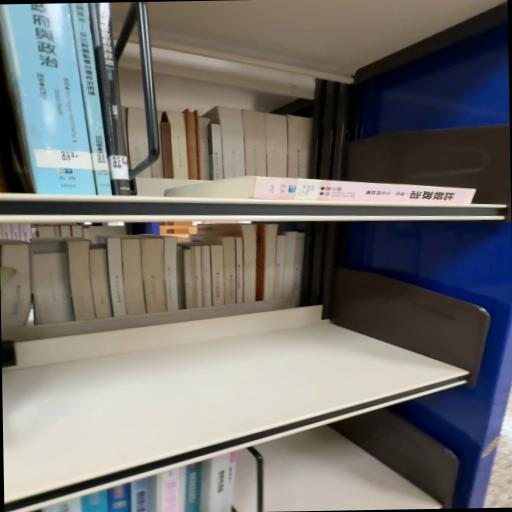flat: (166, 177, 477, 207)
